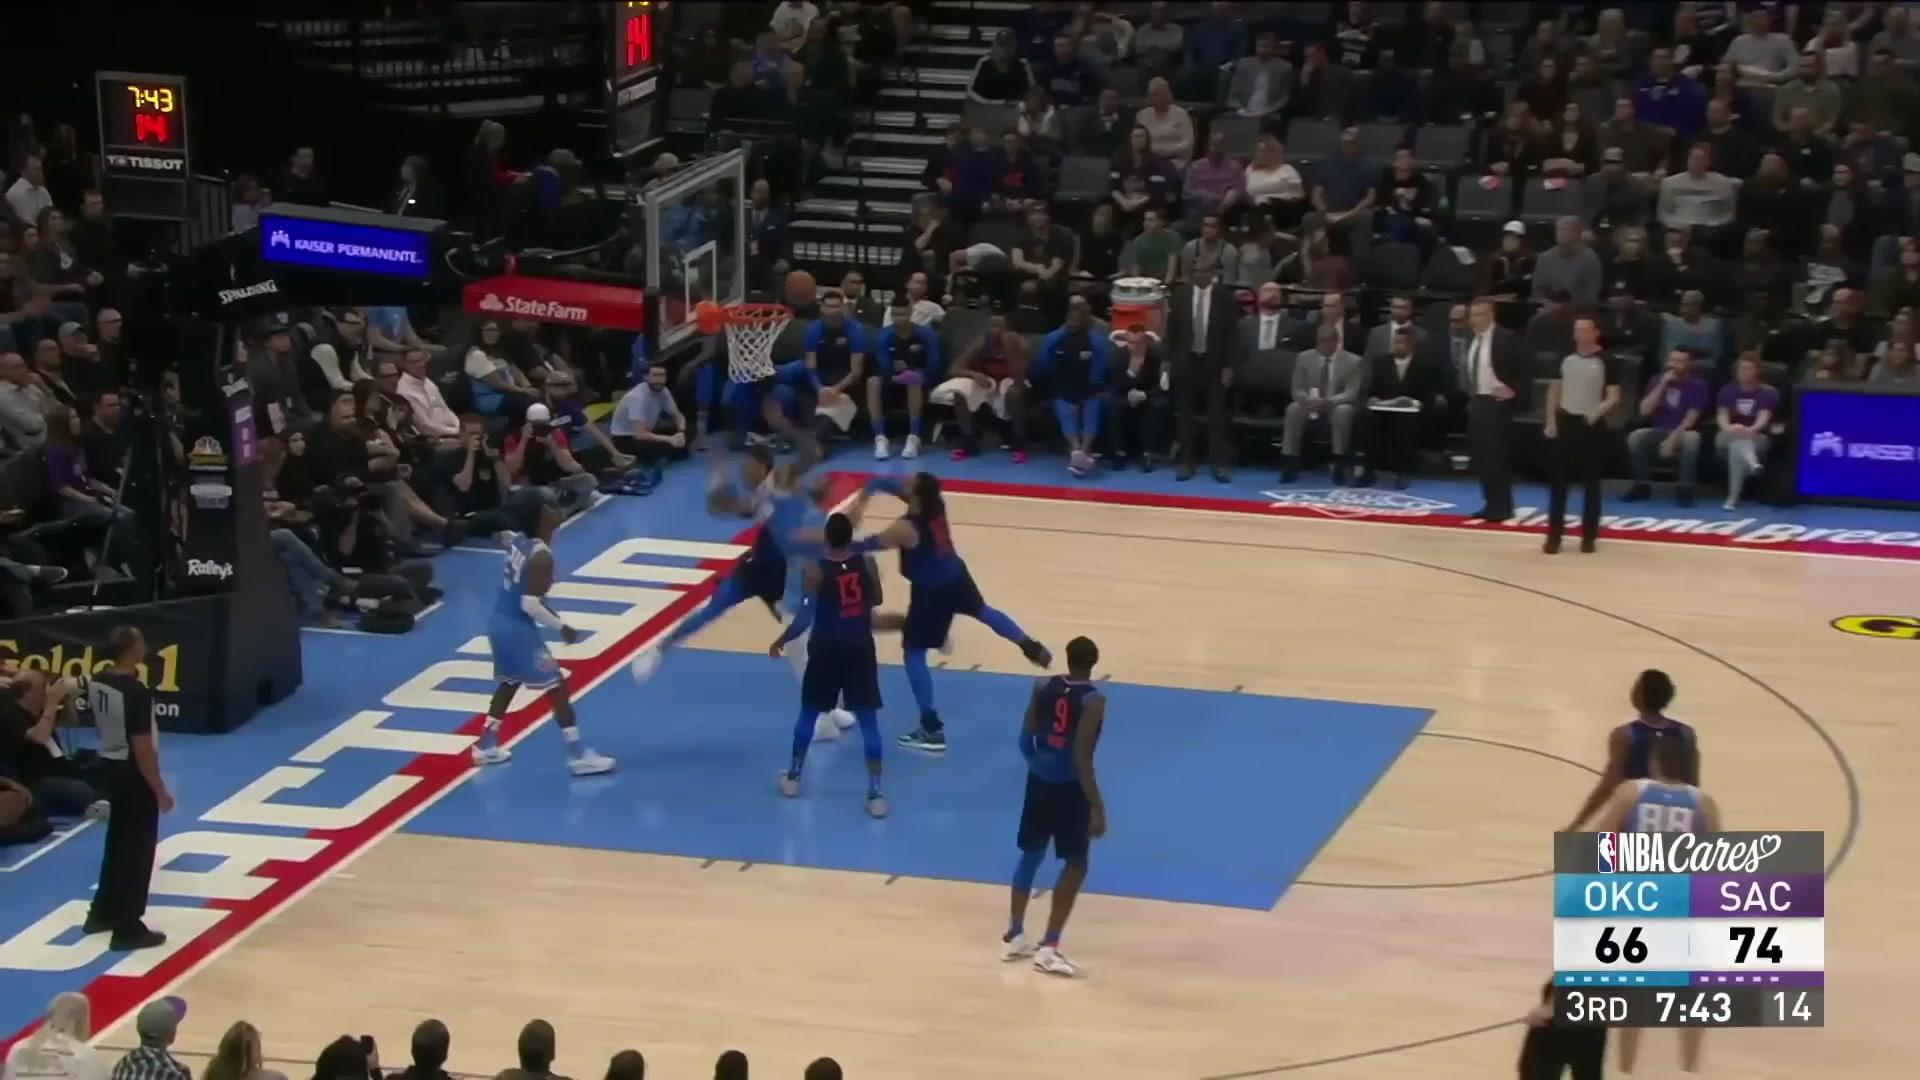foul: (690, 418, 1017, 758)
